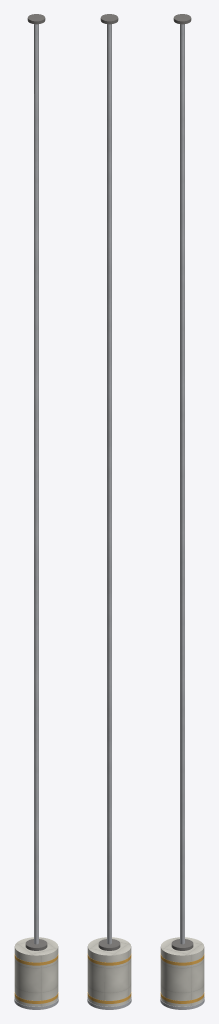
File: robo03_deployable_boom_xs_deployed.glb
The picture shows the model from 3 angles, left to right: view 1: azimuth 30°, elevation 25°; view 2: azimuth 150°, elevation 25°; view 3: azimuth 330°, elevation 25°; orthographic projection.
Parts seen in each view (by area): view 1: boom_stem, canister, canister_bands, boom_lid, base, boom_tip; view 2: boom_stem, canister, canister_bands, boom_lid, base, boom_tip; view 3: boom_stem, canister, canister_bands, boom_lid, base, boom_tip.
Boxes of the visible parts, x1,y1,x2,y2 form: boom_stem: [34, 24, 38, 944]; canister: [14, 937, 58, 1006]; canister_bands: [14, 954, 58, 1003]; boom_lid: [25, 939, 47, 950]; base: [14, 997, 58, 1009]; boom_tip: [27, 14, 45, 24]; boom_stem: [107, 24, 111, 944]; canister: [87, 937, 131, 1006]; canister_bands: [87, 954, 131, 1003]; boom_lid: [98, 939, 120, 950]; base: [87, 997, 131, 1009]; boom_tip: [100, 14, 118, 24]; boom_stem: [180, 24, 184, 944]; canister: [160, 937, 204, 1006]; canister_bands: [160, 954, 204, 1003]; boom_lid: [171, 939, 193, 950]; base: [160, 997, 204, 1009]; boom_tip: [173, 14, 191, 24].
Size of the model in its own units: 0.4077 by 10 by 0.4079.
4 materials, 4 textured.
